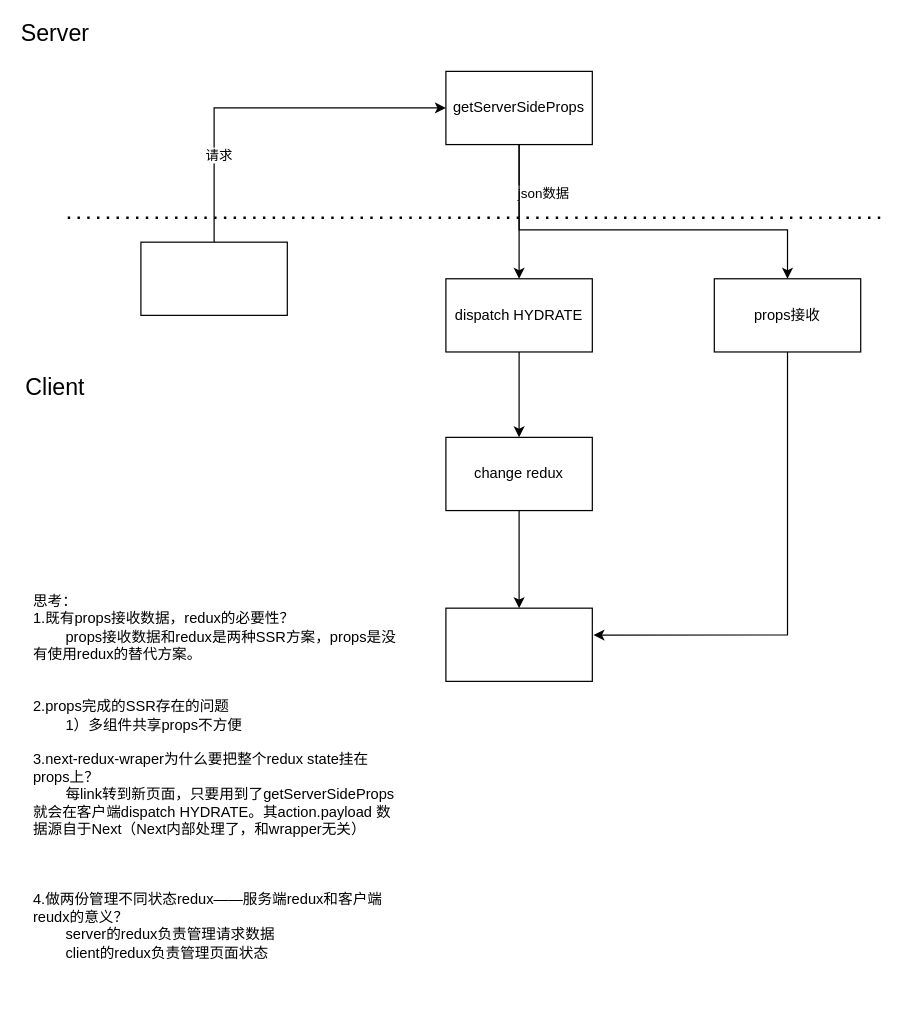
Image size: 908x1035. Some labels were removed from this diagram. The centre of each missing label's shape, as x and y in pixels:
update UI: point (518, 644)
进入新页面: point (213, 278)
